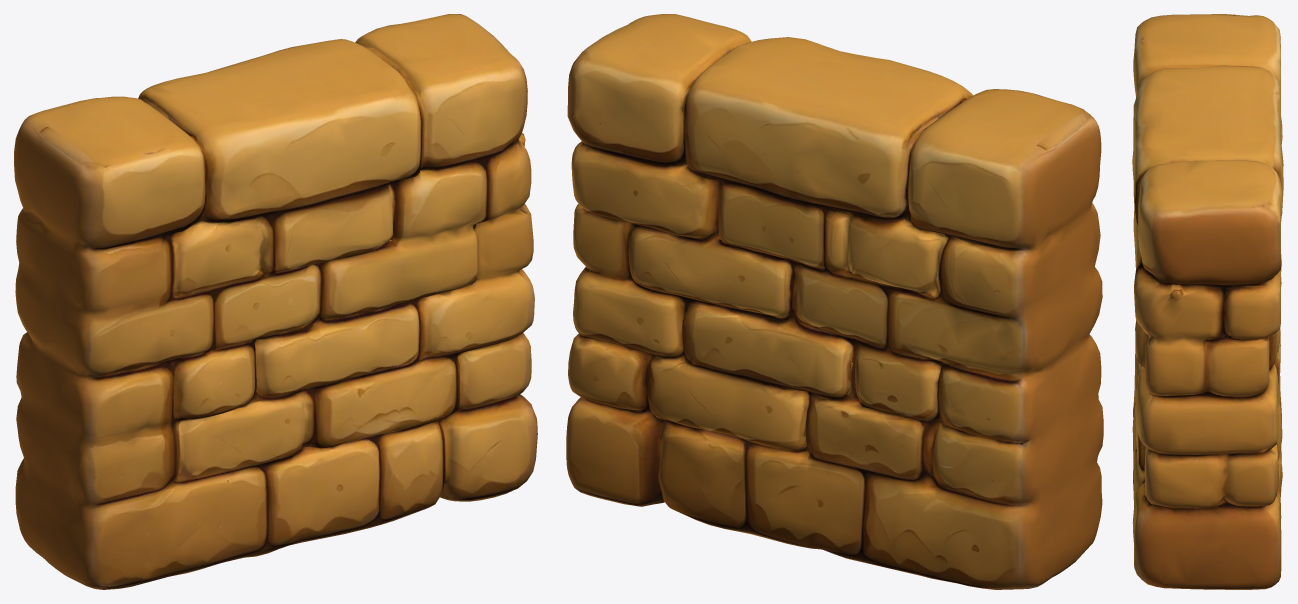
Rendered from baustelle_wall.glb.
3 renders of one model, left to right at view 1: azimuth 30°, elevation 25°; view 2: azimuth 150°, elevation 25°; view 3: azimuth 270°, elevation 25°, orthographic. The views are drawn at different scales.
Bounding box in the file's own units: 2 × 1.81 × 0.6389.
Materials: 1 (1 with a texture image).
